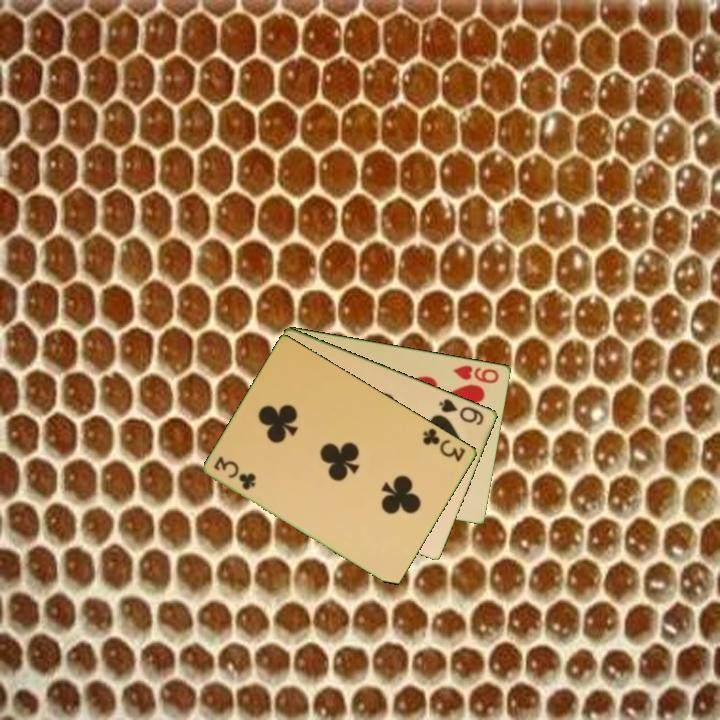3c: (419, 424, 469, 464), (210, 453, 259, 493)
6s: (436, 395, 487, 428)
9h: (450, 361, 502, 386)
